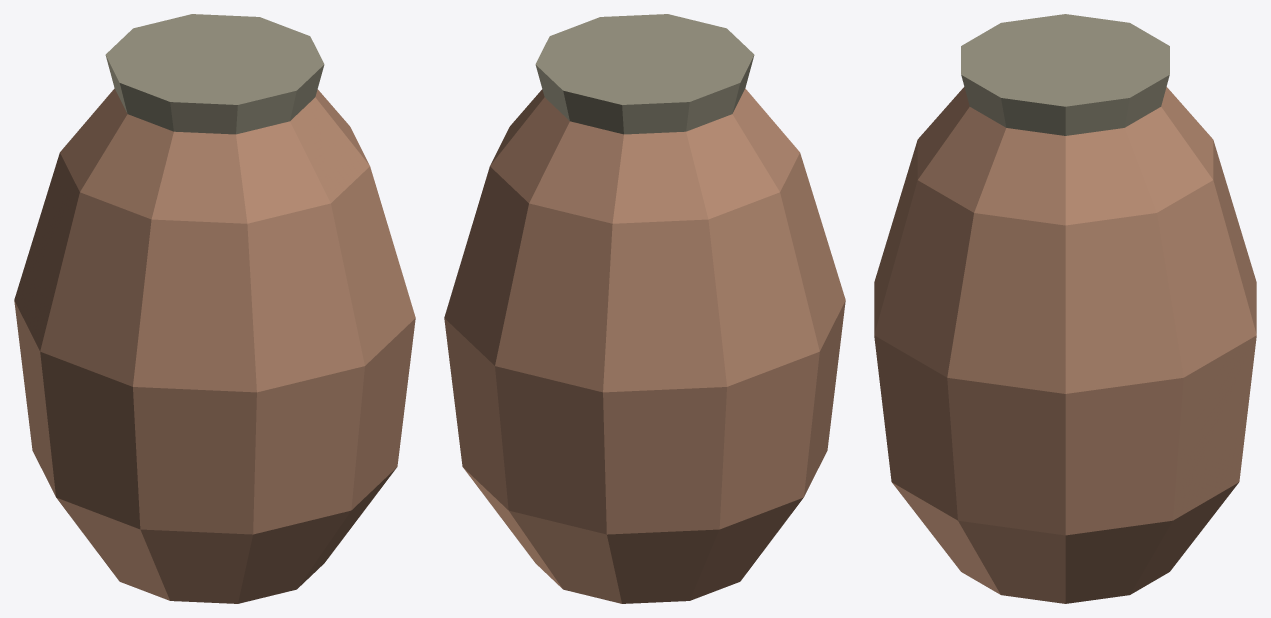
Rendered from pottery_storage_jar_lod1.glb.
3 renders of one model, left to right at view 1: azimuth 30°, elevation 25°; view 2: azimuth 150°, elevation 25°; view 3: azimuth 270°, elevation 25°, orthographic.
Visible parts, largest first — view 1: pottery_storage_jar; view 2: pottery_storage_jar; view 3: pottery_storage_jar.
Boxes of the visible parts, x1,y1,x2,y2 form: pottery_storage_jar: (14,14,415,603); pottery_storage_jar: (444,14,845,603); pottery_storage_jar: (874,14,1256,603).
Size of the model in its own units: 0.44 by 0.6 by 0.4185.
